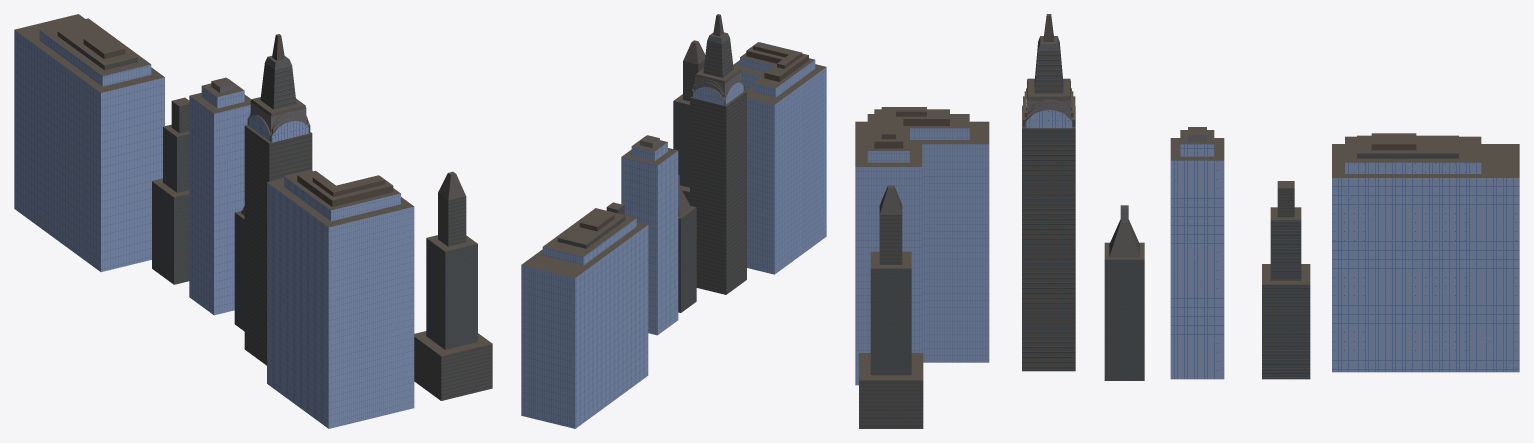
The model's file is Hochhauser.fbx.
3 views of the same model, side by side, from view 1: azimuth 30°, elevation 25°; view 2: azimuth 150°, elevation 25°; view 3: azimuth 270°, elevation 25° (orthographic). The views are drawn at different scales.
Parts seen in each view (by area): view 1: Cube.012, Cube.013, Cube.011, Cube.016, Cube, Cube.015, Cube.014, Cube.004; view 2: Cube.013, Cube.012, Cube, Cube.011, Cube.016, Cube.014, Cube.003; view 3: Cube.013, Cube.012, Cube, Cube.011, Cube.016, Cube.015, Cube.014, Cube.001.
Boxes of the visible parts, x1,y1,x2,y2 form: Cube.012: (267,169,414,428); Cube.013: (14,14,164,271); Cube.011: (189,77,251,315); Cube.016: (414,171,492,400); Cube: (244,34,312,365); Cube.015: (152,97,189,284); Cube.014: (234,206,244,331); Cube.004: (270,120,308,142); Cube.013: (521,208,648,428); Cube.012: (733,42,826,274); Cube: (690,14,746,294); Cube.011: (621,135,678,335); Cube.016: (673,40,705,204); Cube.014: (678,175,696,312); Cube.003: (693,86,725,105); Cube.013: (1332,133,1519,372); Cube.012: (855,107,989,385); Cube: (1022,14,1075,371); Cube.011: (1170,127,1224,379); Cube.016: (859,185,923,428); Cube.015: (1262,181,1310,379); Cube.014: (1104,205,1144,380); Cube.001: (1025,109,1072,128).
Bounding box in the file's own units: 16204 × 28726 × 49573.
